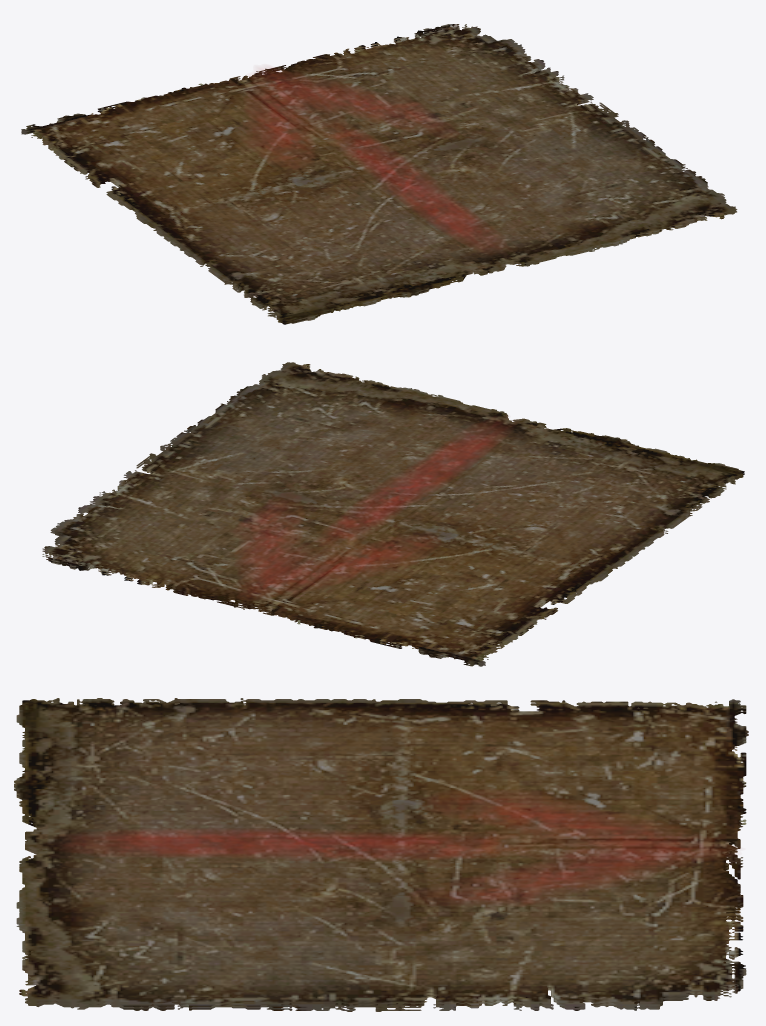
File: ArrowRed.glb
The picture shows the model from 3 angles, top to bottom: view 1: azimuth 30°, elevation 25°; view 2: azimuth 150°, elevation 25°; view 3: azimuth 270°, elevation 25°; orthographic projection. The views are drawn at different scales.
Parts seen in each view (by area): view 1: _ArrowRed; view 2: _ArrowRed; view 3: _ArrowRed.
Boxes of the visible parts, bbox=[...] form: _ArrowRed: bbox=[21, 24, 737, 324]; _ArrowRed: bbox=[42, 362, 744, 666]; _ArrowRed: bbox=[14, 698, 748, 1011].
Bounding box in the file's own units: 1.37 × 0.0226 × 1.38.
Materials: 2 (2 with a texture image).
